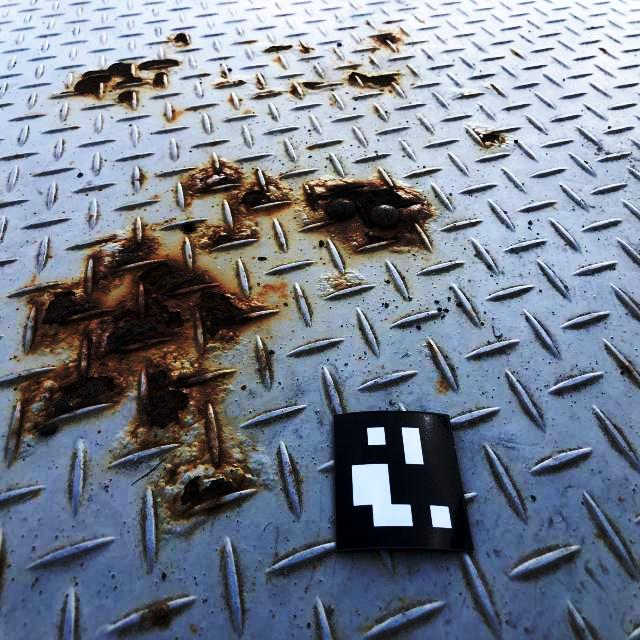Corrosion: (10, 230, 274, 519), (299, 173, 435, 252), (227, 172, 292, 236), (183, 157, 247, 208), (73, 59, 146, 96), (200, 224, 258, 251), (325, 272, 365, 296), (348, 70, 397, 88), (141, 603, 171, 630), (138, 58, 179, 75), (369, 32, 402, 46), (476, 129, 503, 145), (264, 42, 293, 55), (216, 78, 245, 88), (116, 89, 134, 105), (151, 70, 167, 87), (302, 81, 324, 92), (182, 221, 198, 236), (172, 32, 189, 45), (291, 85, 298, 98), (302, 44, 310, 54), (221, 71, 227, 78)
